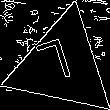L_S: (40, 37, 83, 94)
